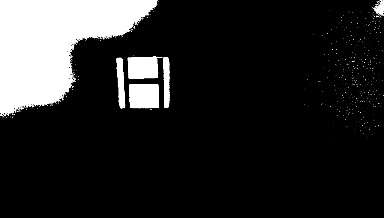H: (114, 55, 169, 107)
